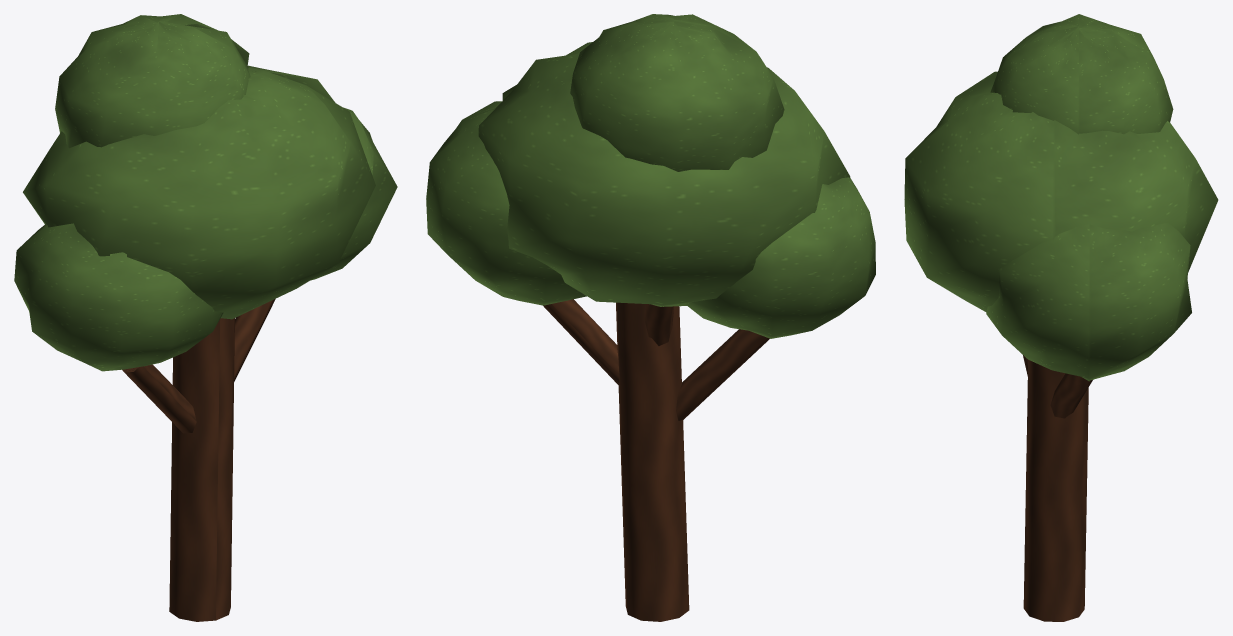
Rendered from tree_v4_a.obj.
3 renders of one model, left to right at view 1: azimuth 30°, elevation 25°; view 2: azimuth 150°, elevation 25°; view 3: azimuth 270°, elevation 25°, orthographic. The views are drawn at different scales.
Visible parts, largest first — view 1: tree_v4_a; view 2: tree_v4_a; view 3: tree_v4_a.
Part boxes in pixels (bbox=[...]): tree_v4_a: bbox=[14, 14, 397, 621]; tree_v4_a: bbox=[426, 14, 875, 621]; tree_v4_a: bbox=[904, 14, 1218, 621].
Bounding box in the file's own units: 6.1 × 8.86 × 4.42.
Materials: 5 (5 with a texture image).
